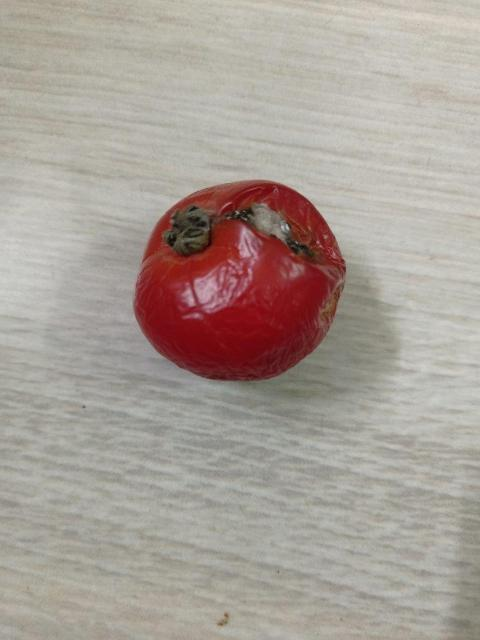defect: (128, 178, 348, 388)
